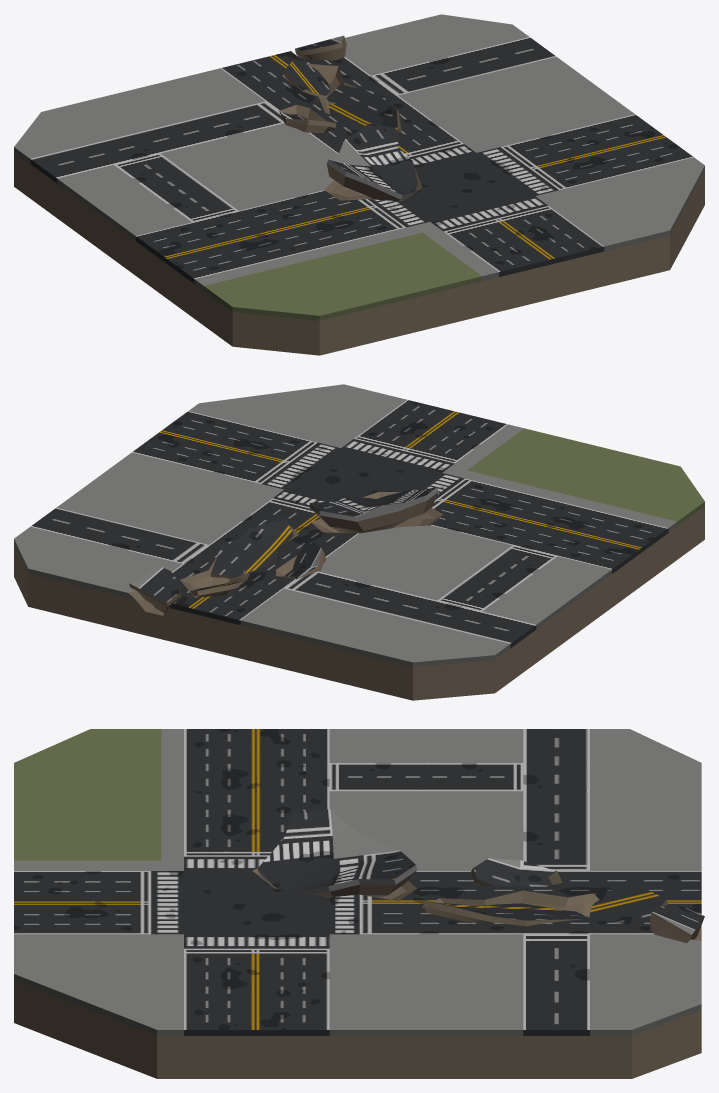
The model's file is SM_Prop_Diorama_Base_01.fbx.
3 views of the same model, one above another, from view 1: azimuth 30°, elevation 25°; view 2: azimuth 150°, elevation 25°; view 3: azimuth 270°, elevation 25° (orthographic). The views are drawn at different scales.
Parts seen in each view (by area): view 1: SM_Prop_Diorama_Base_01; view 2: SM_Prop_Diorama_Base_01; view 3: SM_Prop_Diorama_Base_01.
Boxes of the visible parts, left/top/right/bottom form: SM_Prop_Diorama_Base_01: left=14, top=14, right=704, bottom=355; SM_Prop_Diorama_Base_01: left=14, top=384, right=704, bottom=700; SM_Prop_Diorama_Base_01: left=14, top=729, right=704, bottom=1078.
Bounding box in the file's own units: 361 × 47.91 × 351.
